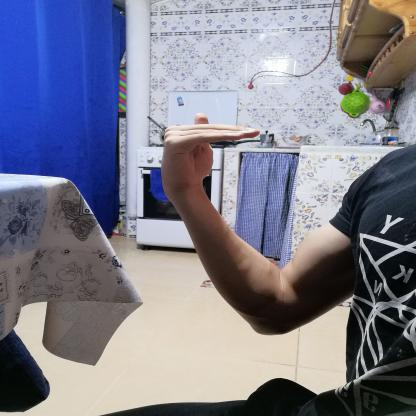KHAA: (152, 110, 266, 198)
